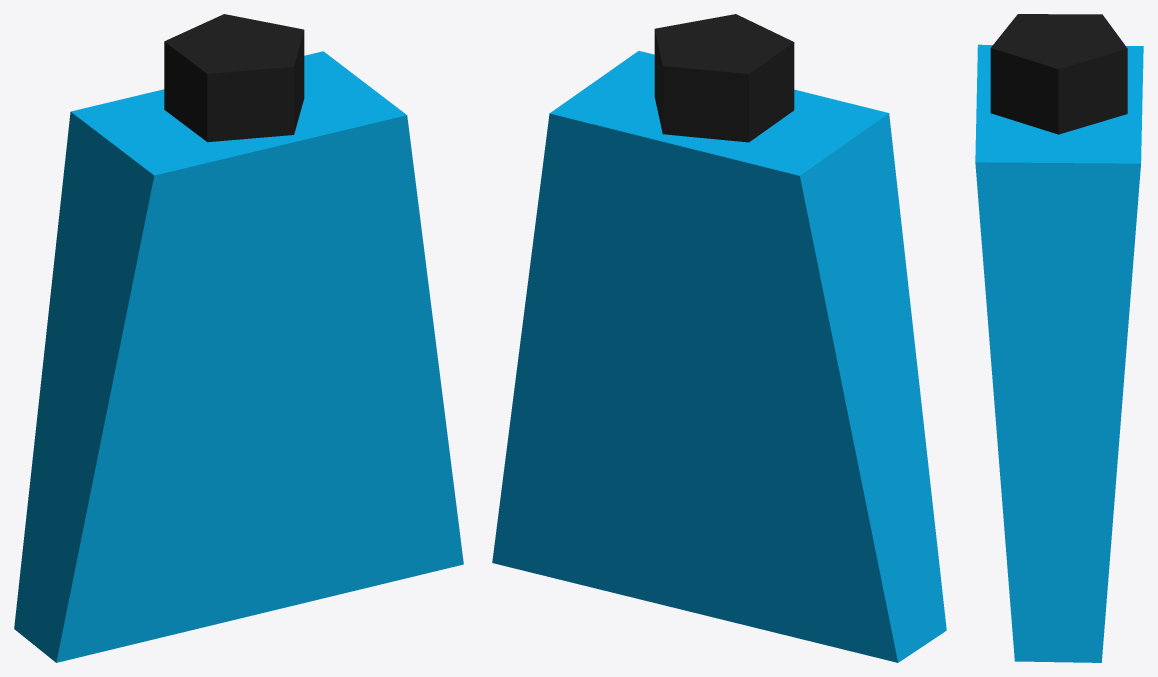
Rendered from prop_060.glb.
The picture shows the model from 3 angles, left to right: view 1: azimuth 30°, elevation 25°; view 2: azimuth 150°, elevation 25°; view 3: azimuth 270°, elevation 25°; orthographic projection. The views are drawn at different scales.
Visible parts, largest first — view 1: prop_060; view 2: prop_060; view 3: prop_060.
Boxes of the visible parts, x1,y1,x2,y2 form: prop_060: (14,14,463,662); prop_060: (492,14,946,662); prop_060: (975,14,1143,662).
Size of the model in its own units: 0.1518 by 0.1952 by 0.0563.
1 material, 1 textured.
